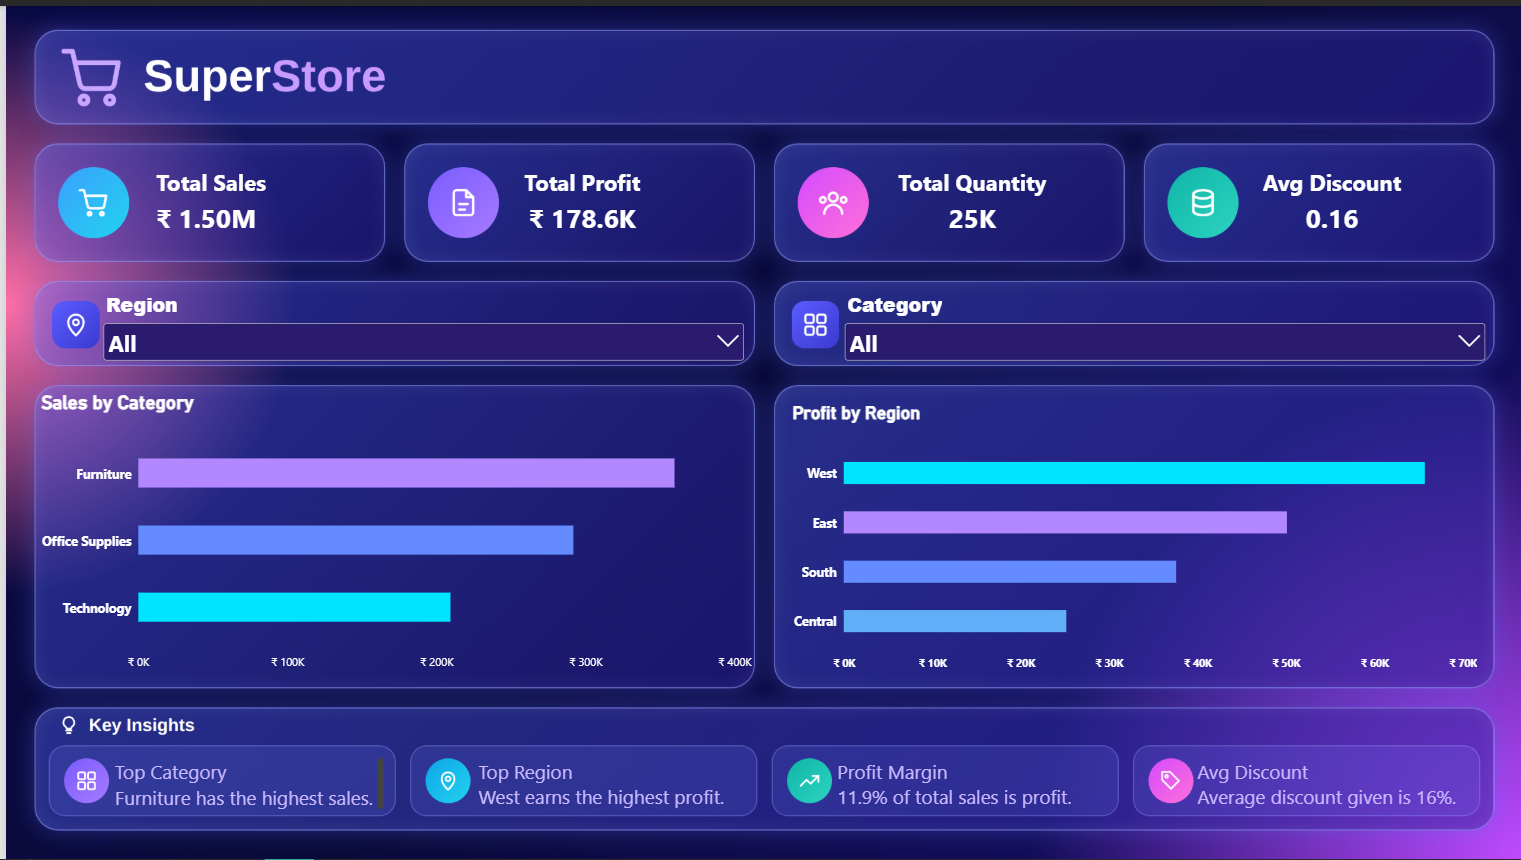

The dashboard page shown, as its layout file describes it:
{"tool":"powerbi","page":{"name":"DASHBOARD","canvas":[1920,1080],"ordinal":0},"visuals":[{"type":"cardVisual","fields":{"Data":["Sum(Sample - Superstore.Sales)"]},"box":[173.3,180,190.4,134.2],"z":0},{"type":"cardVisual","fields":{"Data":["Avg(Sample - Superstore.Discount)"]},"box":[1528.3,180,300.2,134.8],"z":1000},{"type":"cardVisual","fields":{"Data":["Sum(Sample - Superstore.Quantity)"]},"box":[1108.3,180,228.3,134.8],"z":2000},{"type":"cardVisual","fields":{"Data":["Sum(Sample - Superstore.Profit)"]},"box":[635,180,190.4,134.2],"z":3000},{"type":"clusteredBarChart","title":"Sales by Category","fields":{"Category":["Sample - Superstore.Category"],"Y":["Sum(Sample - Superstore.Sales)"]},"box":[28.3,473.3,931.7,388.3],"z":4000},{"type":"clusteredBarChart","title":"Profit by Region","fields":{"Category":["Sample - Superstore.Region"],"Y":["Sum(Sample - Superstore.Profit)"]},"box":[978.3,486.7,898.3,375],"z":5000},{"type":"slicer","fields":{"Values":["Sample - Superstore.Region"]},"box":[118.3,360,820,100],"z":6000},{"type":"slicer","fields":{"Values":["Sample - Superstore.Category"]},"box":[1056.7,360,820,100],"z":7000},{"type":"textbox","box":[138,952,340,72],"z":8000},{"type":"textbox","box":[1508,952,340,72],"z":9000},{"type":"textbox","box":[1052,952,340,72],"z":10000},{"type":"textbox","box":[598,952,340,72],"z":11000}]}

Visuals, with their boxes in screenshot pixels (x1, y1, x2, y2), scaled from the page's 1920x1080 canvas onto the 1521x860 screenshot:
cardVisual - Sum(Sample - Superstore.Sales): crop(137, 143, 288, 250)
cardVisual - Avg(Sample - Superstore.Discount): crop(1211, 143, 1449, 251)
cardVisual - Sum(Sample - Superstore.Quantity): crop(878, 143, 1059, 251)
cardVisual - Sum(Sample - Superstore.Profit): crop(503, 143, 654, 250)
"Sales by Category" clusteredBarChart: crop(22, 377, 760, 686)
"Profit by Region" clusteredBarChart: crop(775, 388, 1487, 686)
slicer - Sample - Superstore.Region: crop(94, 287, 743, 366)
slicer - Sample - Superstore.Category: crop(837, 287, 1487, 366)
textbox: crop(109, 758, 379, 815)
textbox: crop(1195, 758, 1464, 815)
textbox: crop(833, 758, 1103, 815)
textbox: crop(474, 758, 743, 815)
